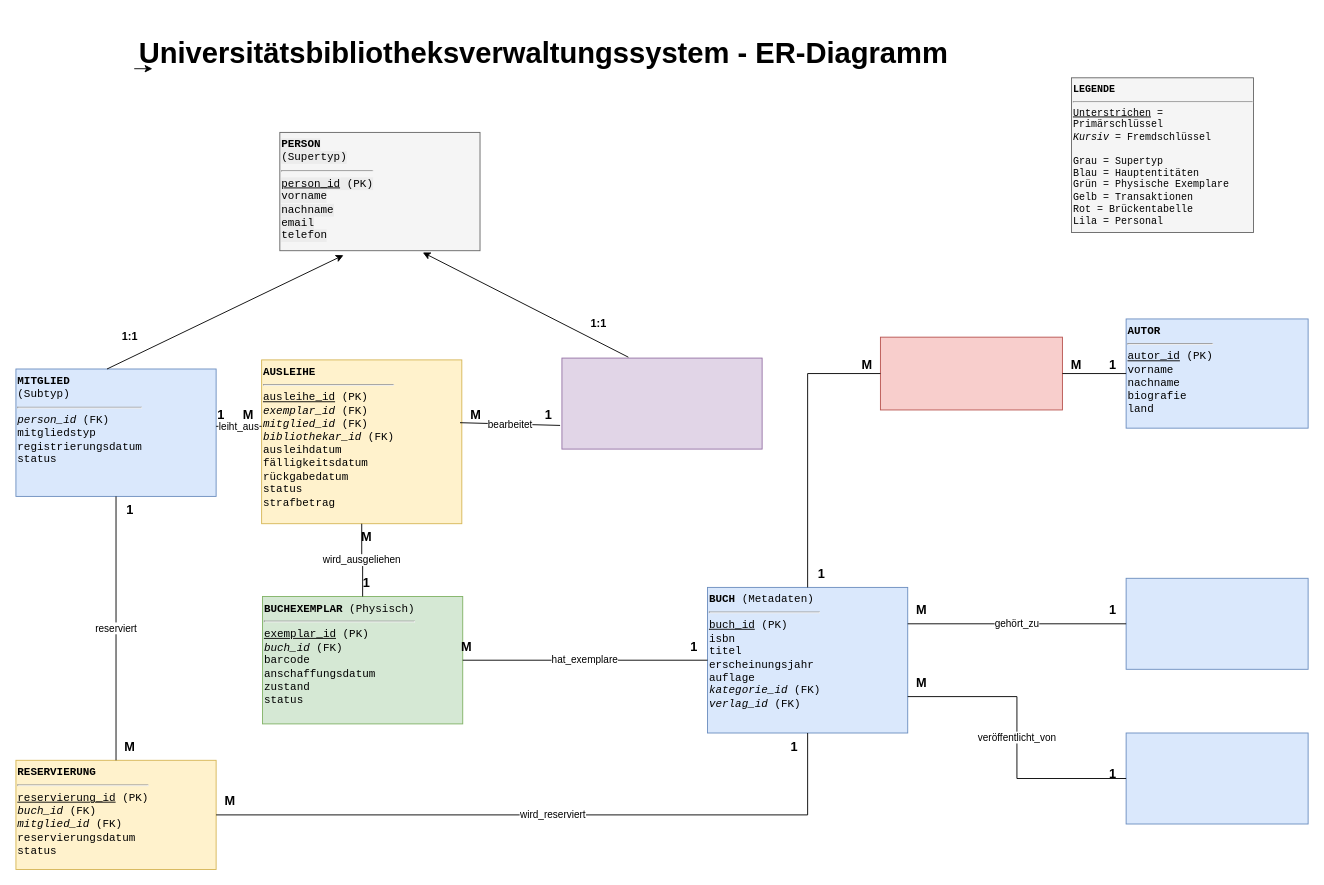
This 1324x885 diagram has some shape labels left out. The centre of each missing label's shape, as x and y in pixels:
"BIBLIOTHEKAR (Subtyp) person_id (FK) einstellungsdatum" belongs at point 661,403.
"BUCH_AUTOR buch_id (PK, FK) autor_id (PK, FK)" belongs at point 971,373.
"KATEGORIE kategorie_id (PK) kategoriename beschreibung" belongs at point 1216,623.
"VERLAG verlag_id (PK) verlagsname land webseite" belongs at point 1216,778.
